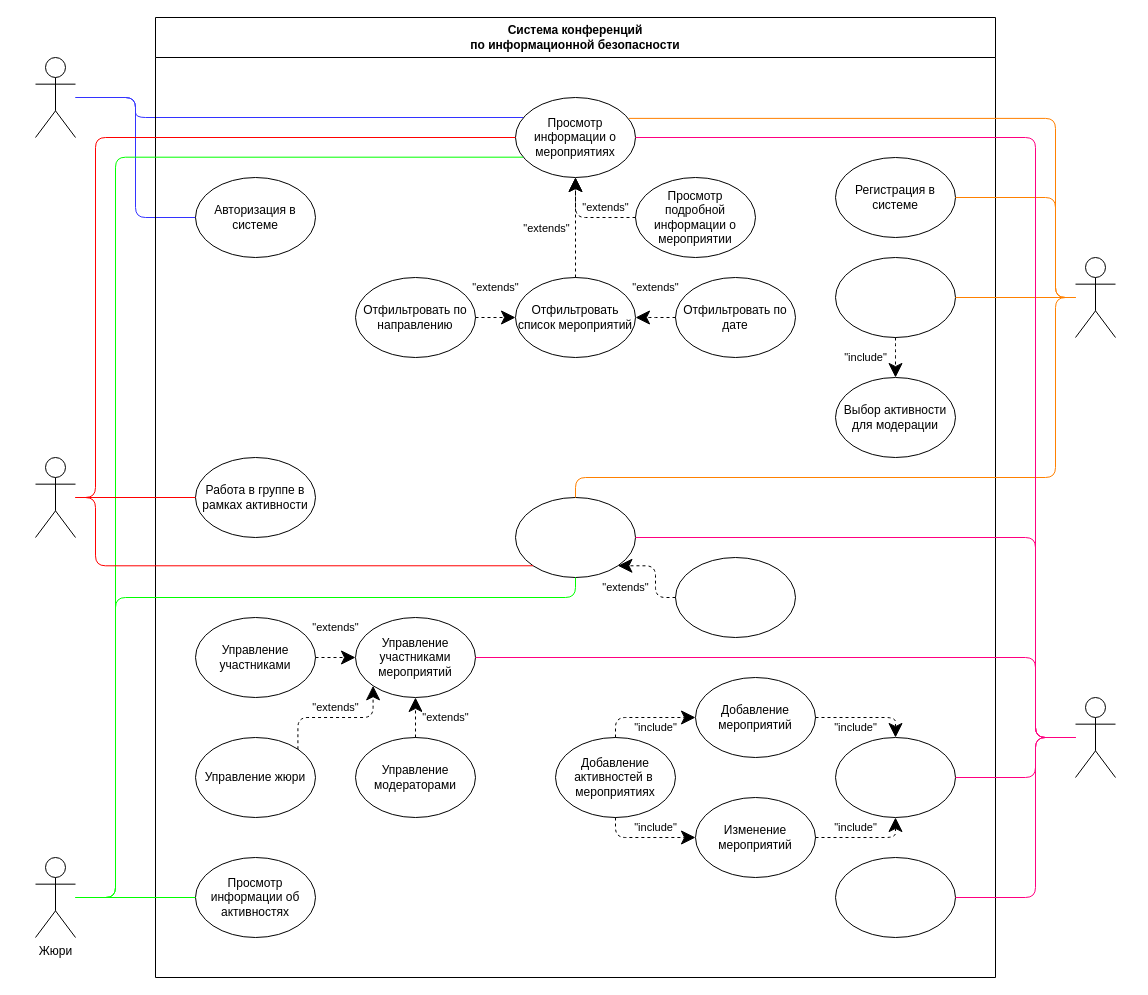
Image size: 1148x995. Some labels were removed from this diagram. The centre of each missing label's shape, as x and y in pixels:
"Внешний пользователь" goes at (x=55, y=97).
"Изменить информацию профиля" goes at (x=735, y=597).
"Модератор" goes at (x=1095, y=297).
"Организатор" goes at (x=1095, y=737).
"Просмотр своего профиля" goes at (x=575, y=537).
"Регистрация жюри и модераторов" goes at (x=895, y=897).
"Регистрация на мероприятие" goes at (x=895, y=297).
"Управление мероприятиями" goes at (x=895, y=777).
"Участник" goes at (x=55, y=497).
